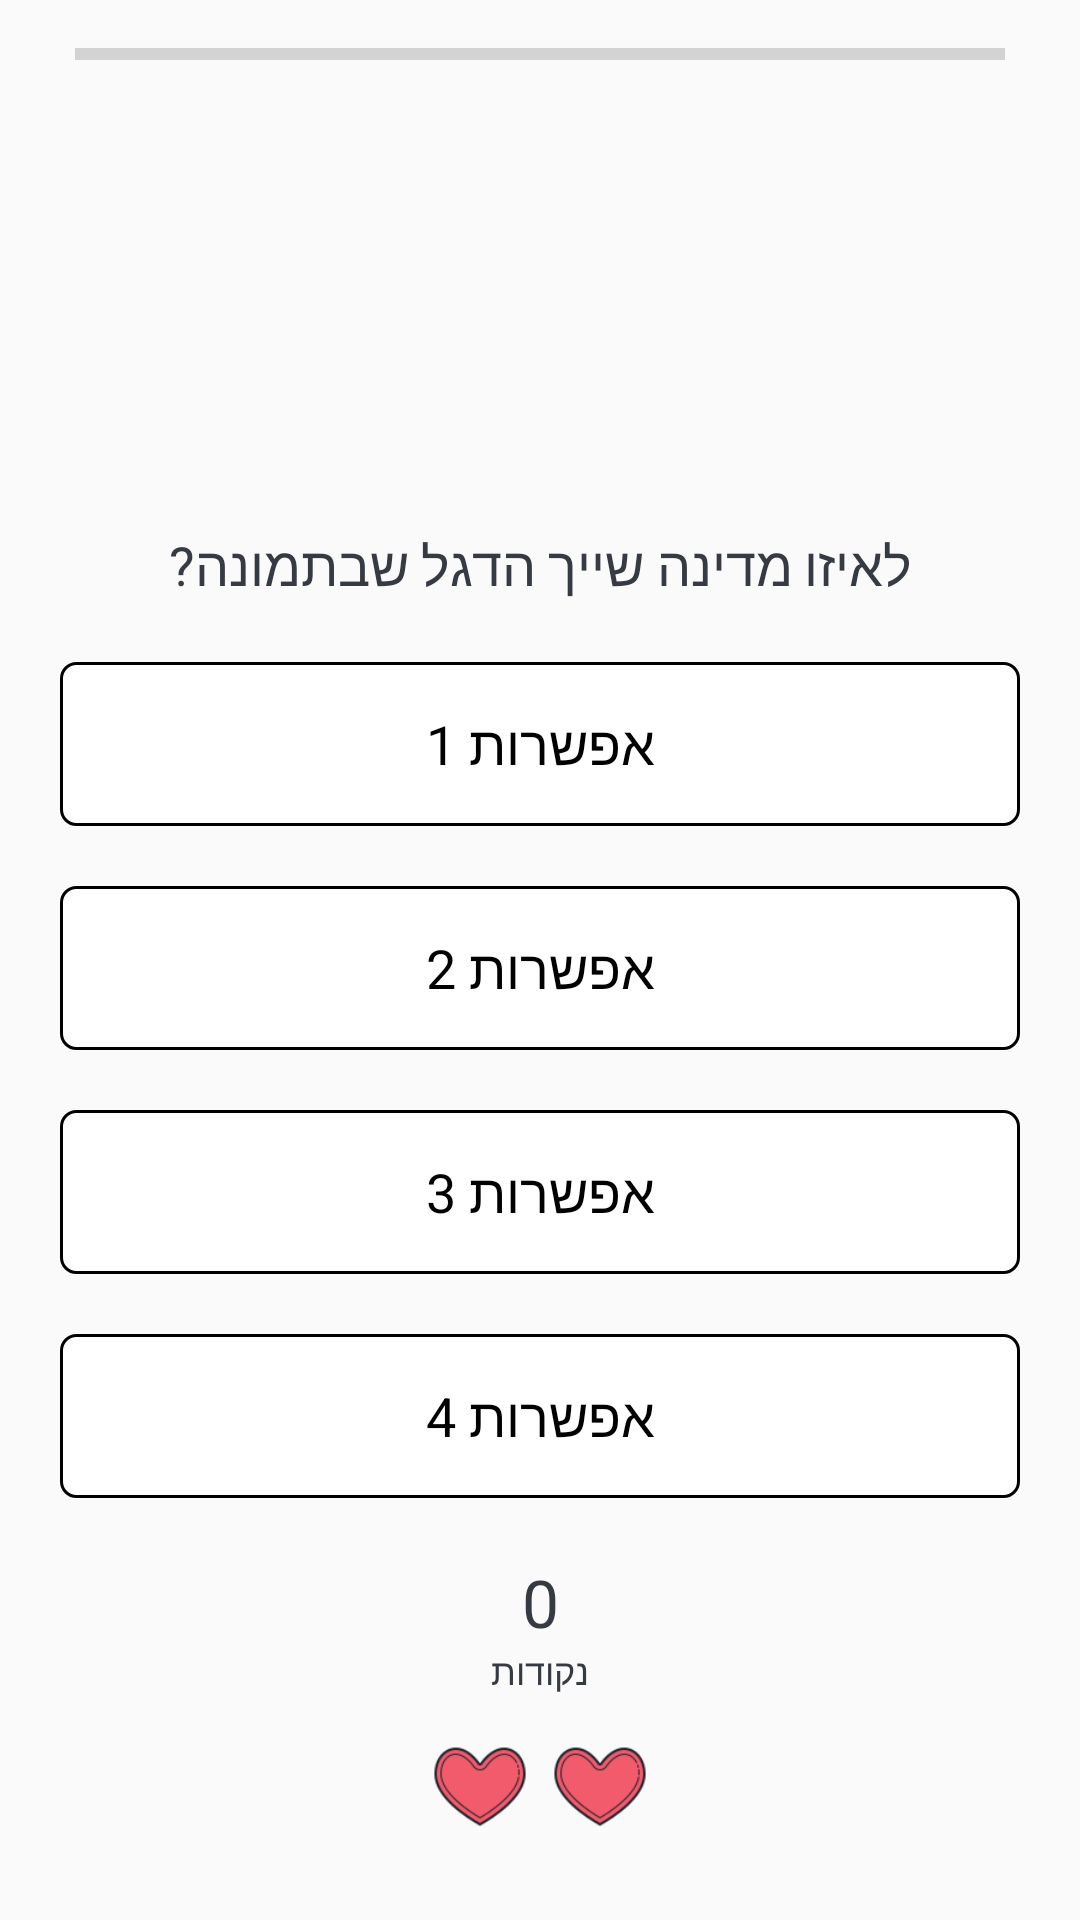

Named icons in this screenshot (1080px x 1920px) and their centers, [x,y]:
hearts: [540,1786]
